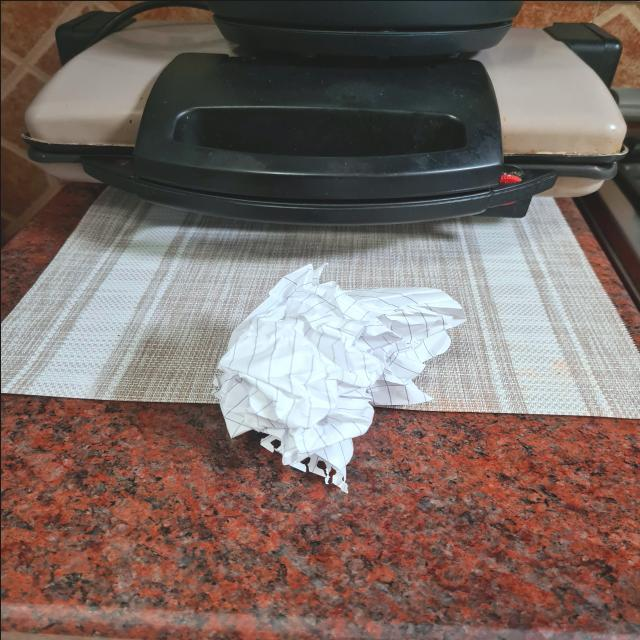Paper: (191, 254, 479, 497)
